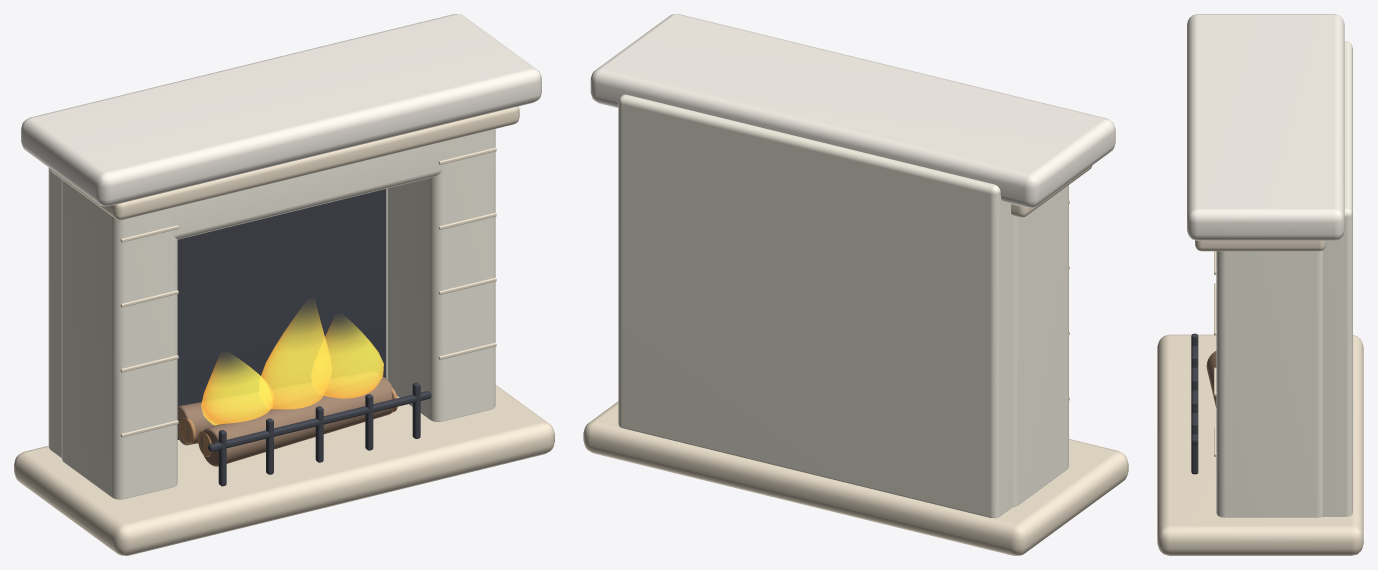
File: livingFireplaceCream.glb
3 renders of one model, left to right at view 1: azimuth 30°, elevation 25°; view 2: azimuth 150°, elevation 25°; view 3: azimuth 270°, elevation 25°, orthographic. The views are drawn at different scales.
Visible parts, largest first — view 1: Broad fireplace mantel, Stone hearth, Dark firebox recess, Cream stone pillar, Cream stone pillar.001, Fireplace arch lintel, Mantel trim, Soft teardrop flame.001, Firewood log, Fireplace rear wall, Soft teardrop flame, Soft teardrop flame.002 (+2 smaller); view 2: Fireplace rear wall, Broad fireplace mantel, Stone hearth, Cream stone pillar; view 3: Broad fireplace mantel, Cream stone pillar.001, Stone hearth, Fireplace rear wall, Mantel trim, Fireplace grate rail, Fireplace grate bar.004, Firewood log.
Boxes of the visible parts, x1,y1,x2,y2 form: Broad fireplace mantel: (21, 14, 541, 206); Stone hearth: (14, 384, 554, 555); Dark firebox recess: (177, 189, 386, 439); Cream stone pillar: (61, 179, 177, 499); Cream stone pillar.001: (387, 129, 495, 421); Fireplace arch lintel: (128, 141, 443, 245); Mantel trim: (50, 106, 519, 219); Soft teardrop flame.001: (261, 306, 329, 409); Firewood log: (200, 376, 392, 466); Fireplace rear wall: (48, 168, 387, 457); Soft teardrop flame: (201, 355, 272, 425); Soft teardrop flame.002: (323, 318, 383, 398); Fireplace rear wall: (618, 94, 1012, 517); Broad fireplace mantel: (590, 14, 1115, 207); Stone hearth: (583, 401, 1128, 555); Cream stone pillar: (1012, 185, 1068, 507); Broad fireplace mantel: (1187, 14, 1344, 240); Cream stone pillar.001: (1216, 250, 1322, 517); Stone hearth: (1157, 334, 1363, 555); Fireplace rear wall: (1322, 41, 1352, 516); Mantel trim: (1195, 240, 1325, 251); Fireplace grate rail: (1191, 346, 1198, 444); Fireplace grate bar.004: (1191, 422, 1198, 474); Firewood log: (1206, 351, 1216, 407).
Size of the model in its own units: 1.79 by 1.44 by 0.77.
